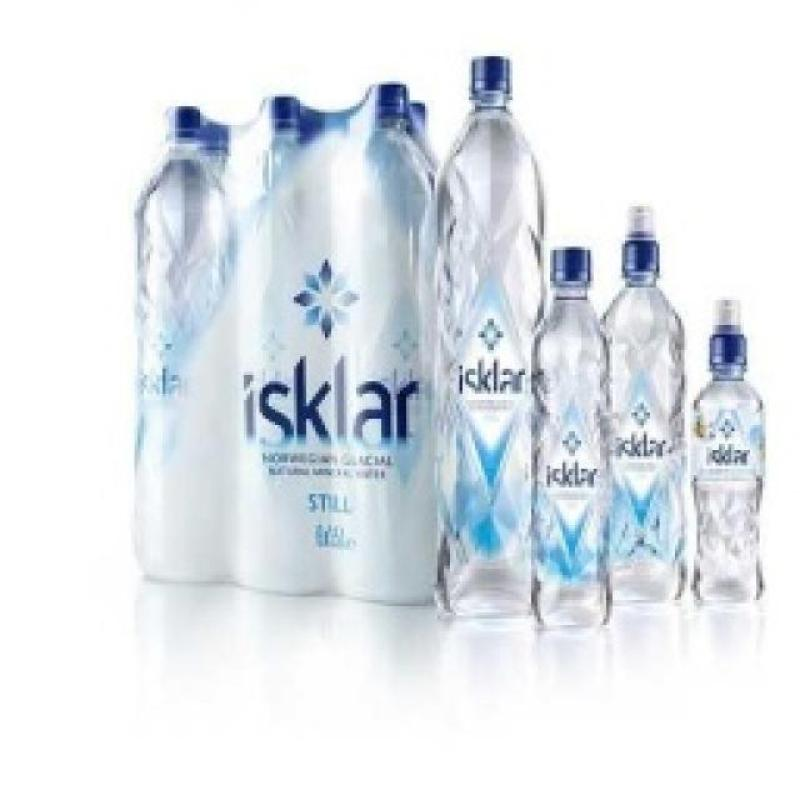botella: (222, 94, 340, 600), (436, 53, 540, 616), (337, 83, 441, 605), (125, 108, 225, 582), (599, 206, 686, 612), (532, 238, 608, 632), (682, 303, 768, 609), (410, 97, 438, 151), (201, 117, 224, 152)
